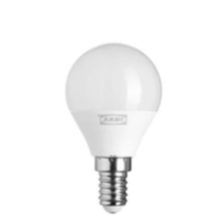light_bulb: (63, 40, 165, 216)
